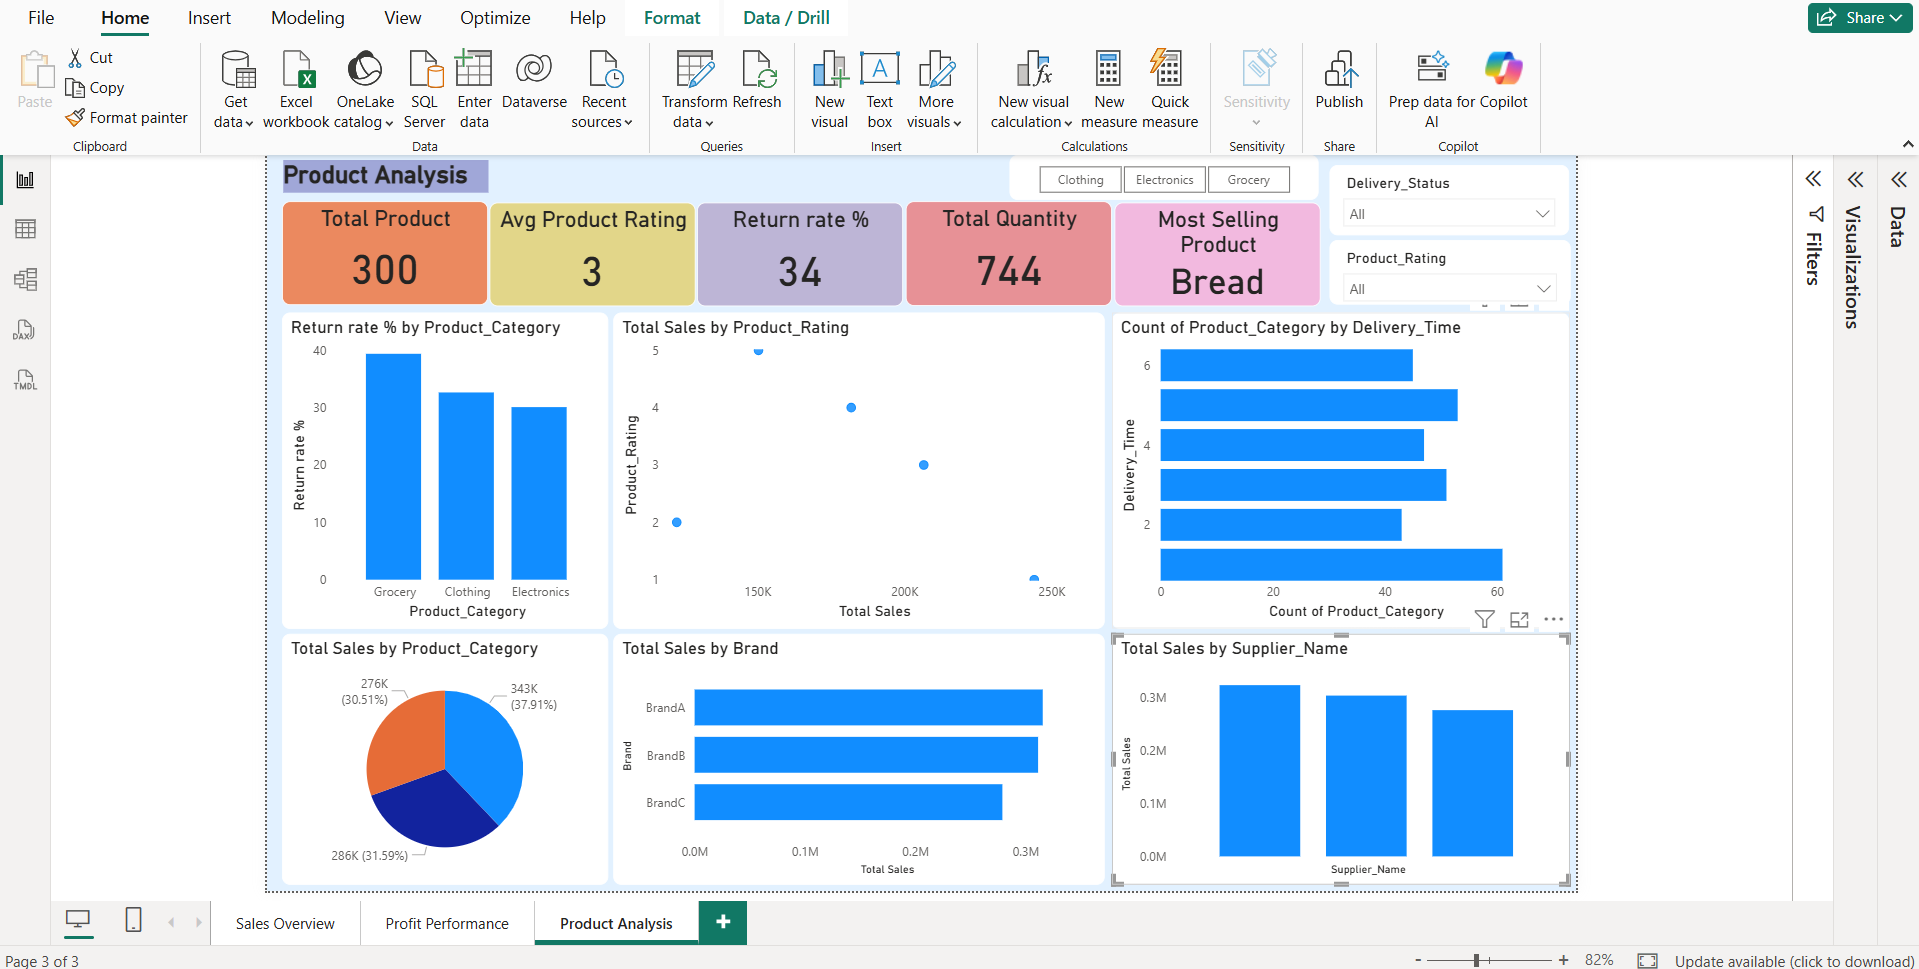

What the dashboard file says about the page in this screenshot:
{"tool":"powerbi","page":{"name":"Product Analysis","canvas":[1280,720],"ordinal":2},"visuals":[{"type":"card","title":"Most Selling Product","fields":{"Values":["Sheet1.Most Selling Product"]},"box":[829.1,46.5,201.8,101.5],"z":0},{"type":"card","title":"Return rate  % ","fields":{"Values":["Sheet1.Return rate %"]},"box":[420.7,46.5,201.8,101.5],"z":1000},{"type":"card","title":"Avg Product Rating","fields":{"Values":["Sheet1.Avg_Product_Rating"]},"box":[217.7,46.5,201.8,101.5],"z":2000},{"type":"card","title":"Total Product","fields":{"Values":["Sheet1.Total Product"]},"box":[14.7,45.2,201.8,101.5],"z":3000},{"type":"pieChart","fields":{"Category":["Sheet1.Product_Category"],"Y":["Sheet1.Total Sales"]},"box":[14.7,468.3,319.2,245.8],"z":4000},{"type":"scatterChart","fields":{"X":["Sheet1.Total Sales"],"Y":["Sheet1.Product_Rating"]},"box":[338.7,154.1,480.6,309.4],"z":5000},{"type":"clusteredColumnChart","fields":{"Y":["Sheet1.Return rate %"],"Category":["Sheet1.Product_Category"]},"box":[14.7,154.1,319.2,309.4],"z":6000},{"type":"barChart","fields":{"Category":["Sheet1.Brand"],"Y":["Sheet1.Total Sales"]},"box":[338.7,468.3,480.6,245.8],"z":7000},{"type":"barChart","fields":{"Category":["Sheet1.Delivery_Time"],"Y":["CountNonNull(Sheet1.Product_Category)"]},"box":[826.6,154.1,447.6,309.4],"z":8000},{"type":"lineStackedColumnComboChart","fields":{"Category":["Sheet1.Supplier_Name"],"Y":["Sheet1.Total Sales"]},"box":[781.4,474.5,447.6,245.8],"z":9000},{"type":"card","title":"Total Quantity","fields":{"Values":["Sheet1.Total Quantity"]},"box":[624.9,45.2,201.8,102.7],"z":10000},{"type":"slicer","fields":{"Values":["Sheet1.Product_Category"]},"box":[726.4,0,302,44],"z":11000},{"type":"slicer","fields":{"Values":["Sheet1.Delivery_Status"]},"box":[1039.4,9.8,234.8,68.5],"z":12000},{"type":"slicer","fields":{"Values":["Sheet1.Product_Rating"]},"box":[1039.4,83.2,236,63.6],"z":13000},{"type":"actionButton","title":"Product Analysis","box":[15.9,4.9,200.5,40.4],"z":14000}]}

Visuals, with their boxes on the page's 1280x720 design canvas (x1, y1, x2, y2). These are canvas units, not pixel positions in the 1919x969 screenshot, which may show the page scaled, cropped or inside an application window:
"Most Selling Product" card: select_region(829, 46, 1031, 148)
"Return rate  % " card: select_region(421, 46, 622, 148)
"Avg Product Rating" card: select_region(218, 46, 420, 148)
"Total Product" card: select_region(15, 45, 216, 147)
pieChart - Sheet1.Product_Category x Sheet1.Total Sales: select_region(15, 468, 334, 714)
scatterChart - Sheet1.Total Sales x Sheet1.Product_Rating: select_region(339, 154, 819, 464)
clusteredColumnChart - Sheet1.Return rate % x Sheet1.Product_Category: select_region(15, 154, 334, 464)
barChart - Sheet1.Brand x Sheet1.Total Sales: select_region(339, 468, 819, 714)
barChart - Sheet1.Delivery_Time x CountNonNull(Sheet1.Product_Category): select_region(827, 154, 1274, 464)
lineStackedColumnComboChart - Sheet1.Supplier_Name x Sheet1.Total Sales: select_region(781, 474, 1229, 720)
"Total Quantity" card: select_region(625, 45, 827, 148)
slicer - Sheet1.Product_Category: select_region(726, 0, 1028, 44)
slicer - Sheet1.Delivery_Status: select_region(1039, 10, 1274, 78)
slicer - Sheet1.Product_Rating: select_region(1039, 83, 1275, 147)
"Product Analysis" actionButton: select_region(16, 5, 216, 45)
